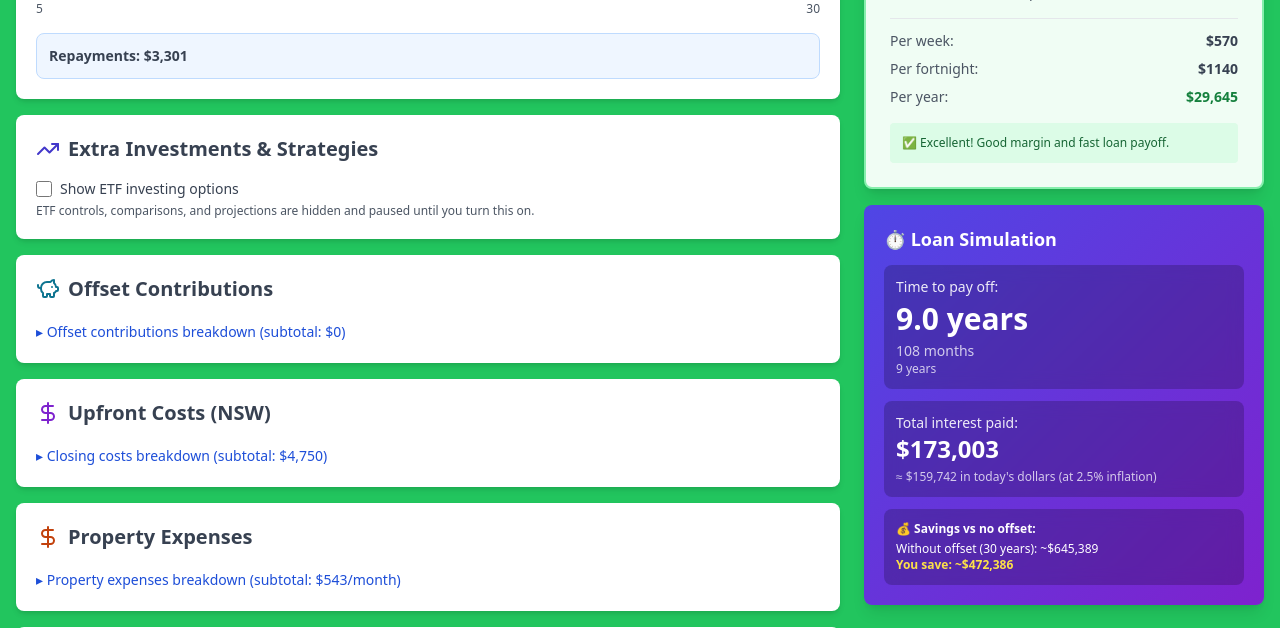
it: "(offset applied)" next to month-1 interest (TODO-172/173) › shows once a month-1 contribution reduces month-1 interest
This screenshot has width=1280, height=628.
(page scrolled)
Click the button "▸ Offset contributions breakdown (subtotal: $0)" at (191, 332), box [36,322,346,342]
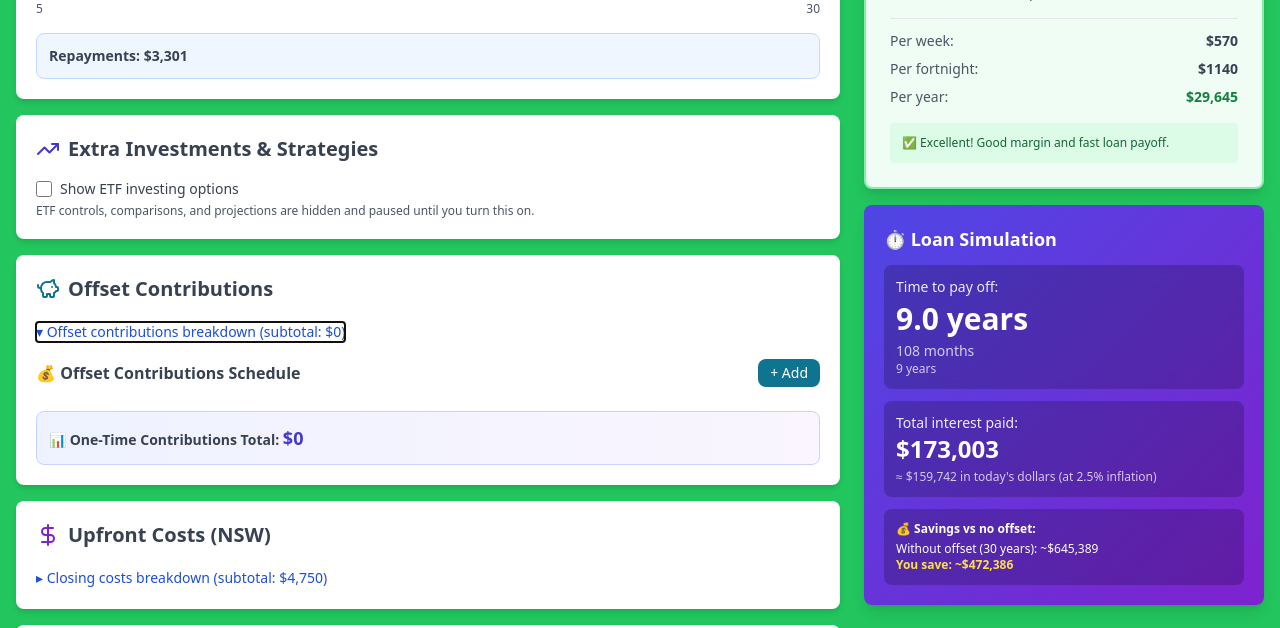
Click the button "+ Add" at (789, 373), box [758,359,820,387]
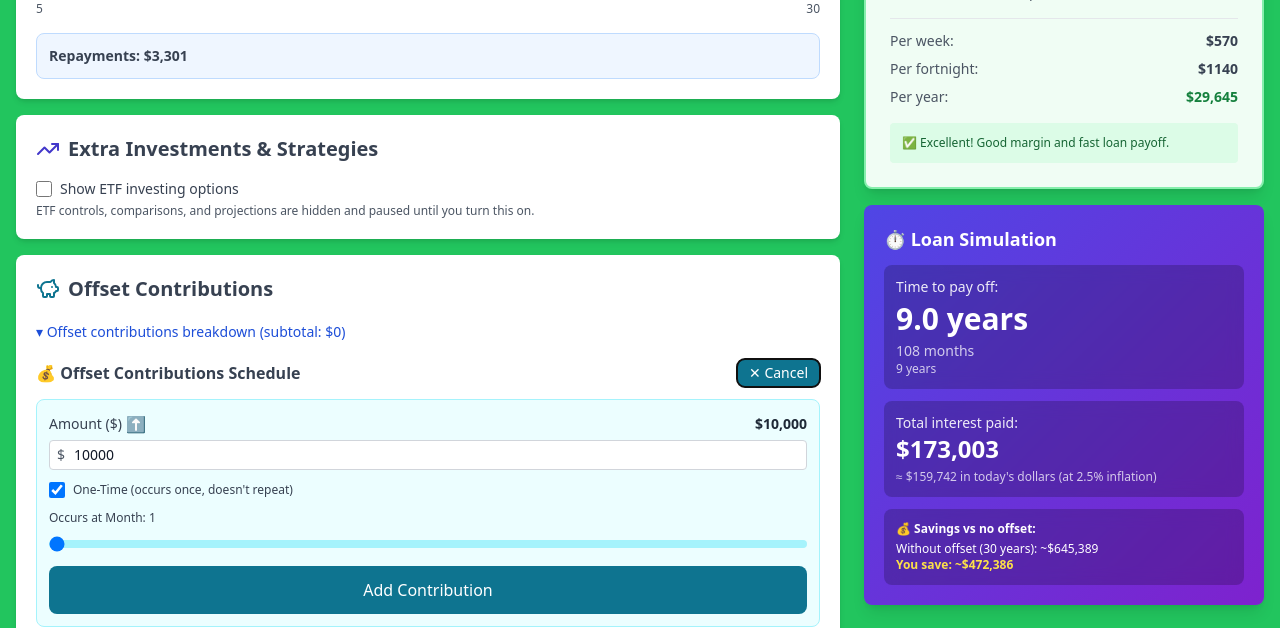
// The all-defaults form is one $10,000 one-time contribution at month 1.
Click the button "Add Contribution" at (428, 590), box [49,566,807,614]
(page scrolled)
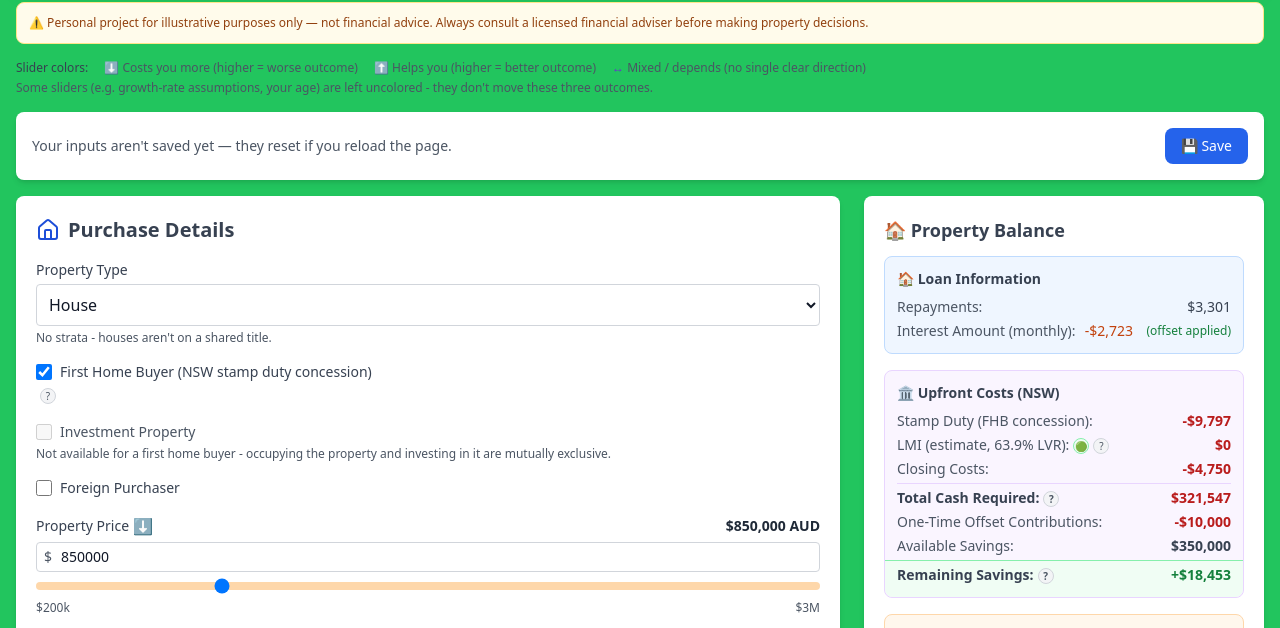
Expected: the text "(offset applied)" is shown, [1146,323,1231,339]
